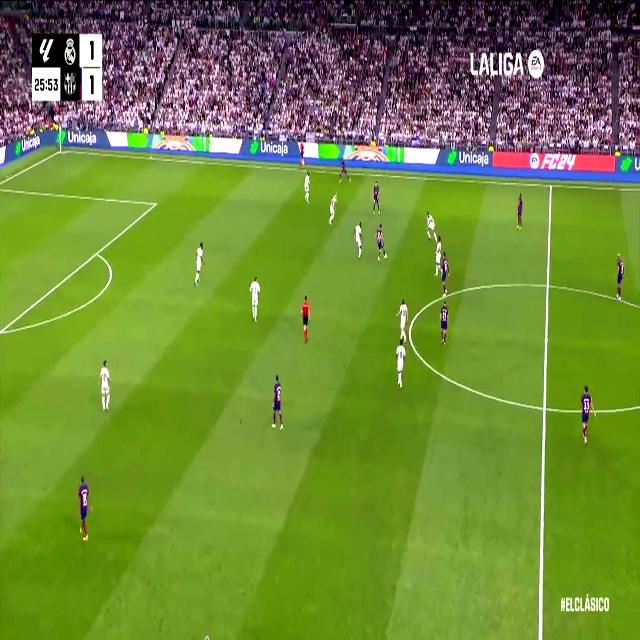bigarea_top_inner: (152, 196, 158, 211)
bottom_arc_area_intersection: (0, 320, 6, 340)
corner: (57, 145, 65, 155)
halfcircle_bottom: (538, 392, 551, 422)
halfcircle_top: (542, 272, 554, 298)
midline_top_intersection: (548, 179, 554, 193)
top_arc_area_intersection: (92, 245, 100, 260)
